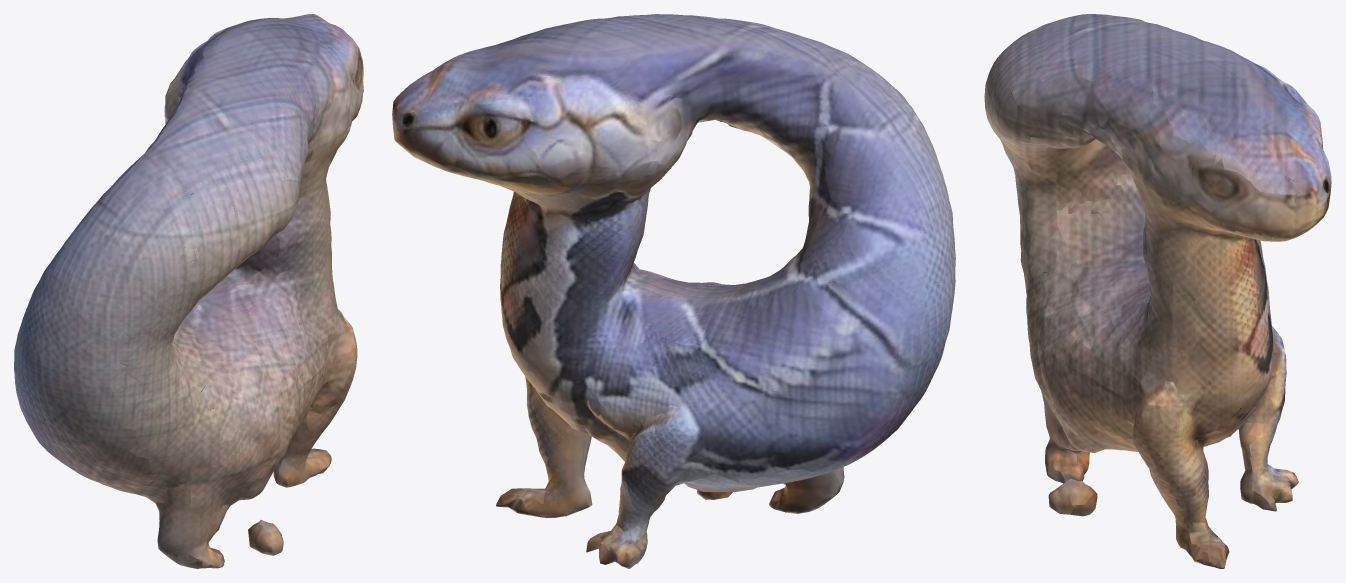
3 renders of one model, left to right at view 1: azimuth 30°, elevation 25°; view 2: azimuth 150°, elevation 25°; view 3: azimuth 270°, elevation 25°, orthographic. The views are drawn at different scales.
Visible parts, largest first — view 1: world; view 2: world; view 3: world.
Boxes of the visible parts, x1,y1,x2,y2 form: world: (14,14,363,568); world: (392,14,955,568); world: (984,14,1331,568).
Bounding box in the file's own units: 0.8406 × 0.8884 × 0.5844.
Materials: 1 (1 with a texture image).
